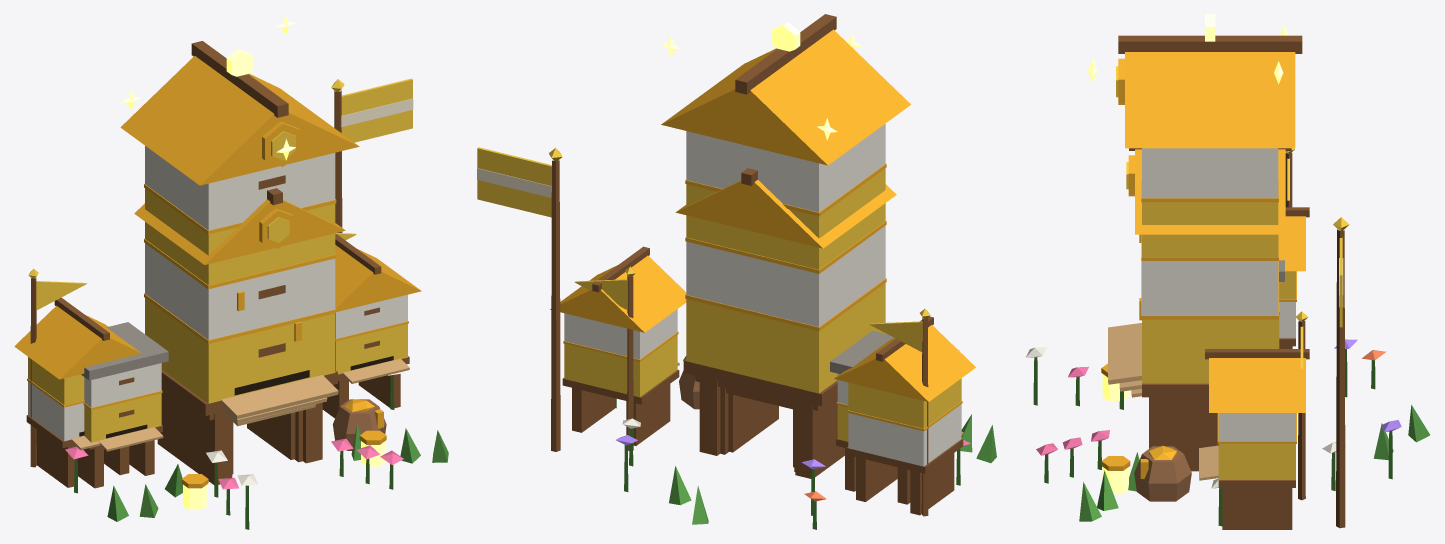
File: bee-apiary-lv.glb
3 views of the same model, side by side, from view 1: azimuth 30°, elevation 25°; view 2: azimuth 150°, elevation 25°; view 3: azimuth 270°, elevation 25° (orthographic). The views are drawn at different scales.
Visible parts, largest first — view 1: lv3, lv2, lv1; view 2: lv3, lv2, lv1; view 3: lv3, lv2, lv1.
Part boxes in pixels (box(x1,y1,x2,y2)): lv3: box(14, 14, 448, 529); lv2: box(77, 188, 420, 517); lv1: box(165, 404, 360, 497); lv3: box(477, 14, 996, 529); lv2: box(574, 168, 972, 515); lv1: box(726, 388, 794, 467); lv3: box(1025, 14, 1429, 529); lv2: box(1062, 148, 1393, 510); lv1: box(1091, 389, 1141, 491).
Size of the model in its own units: 1.95 by 1.82 by 1.55.
